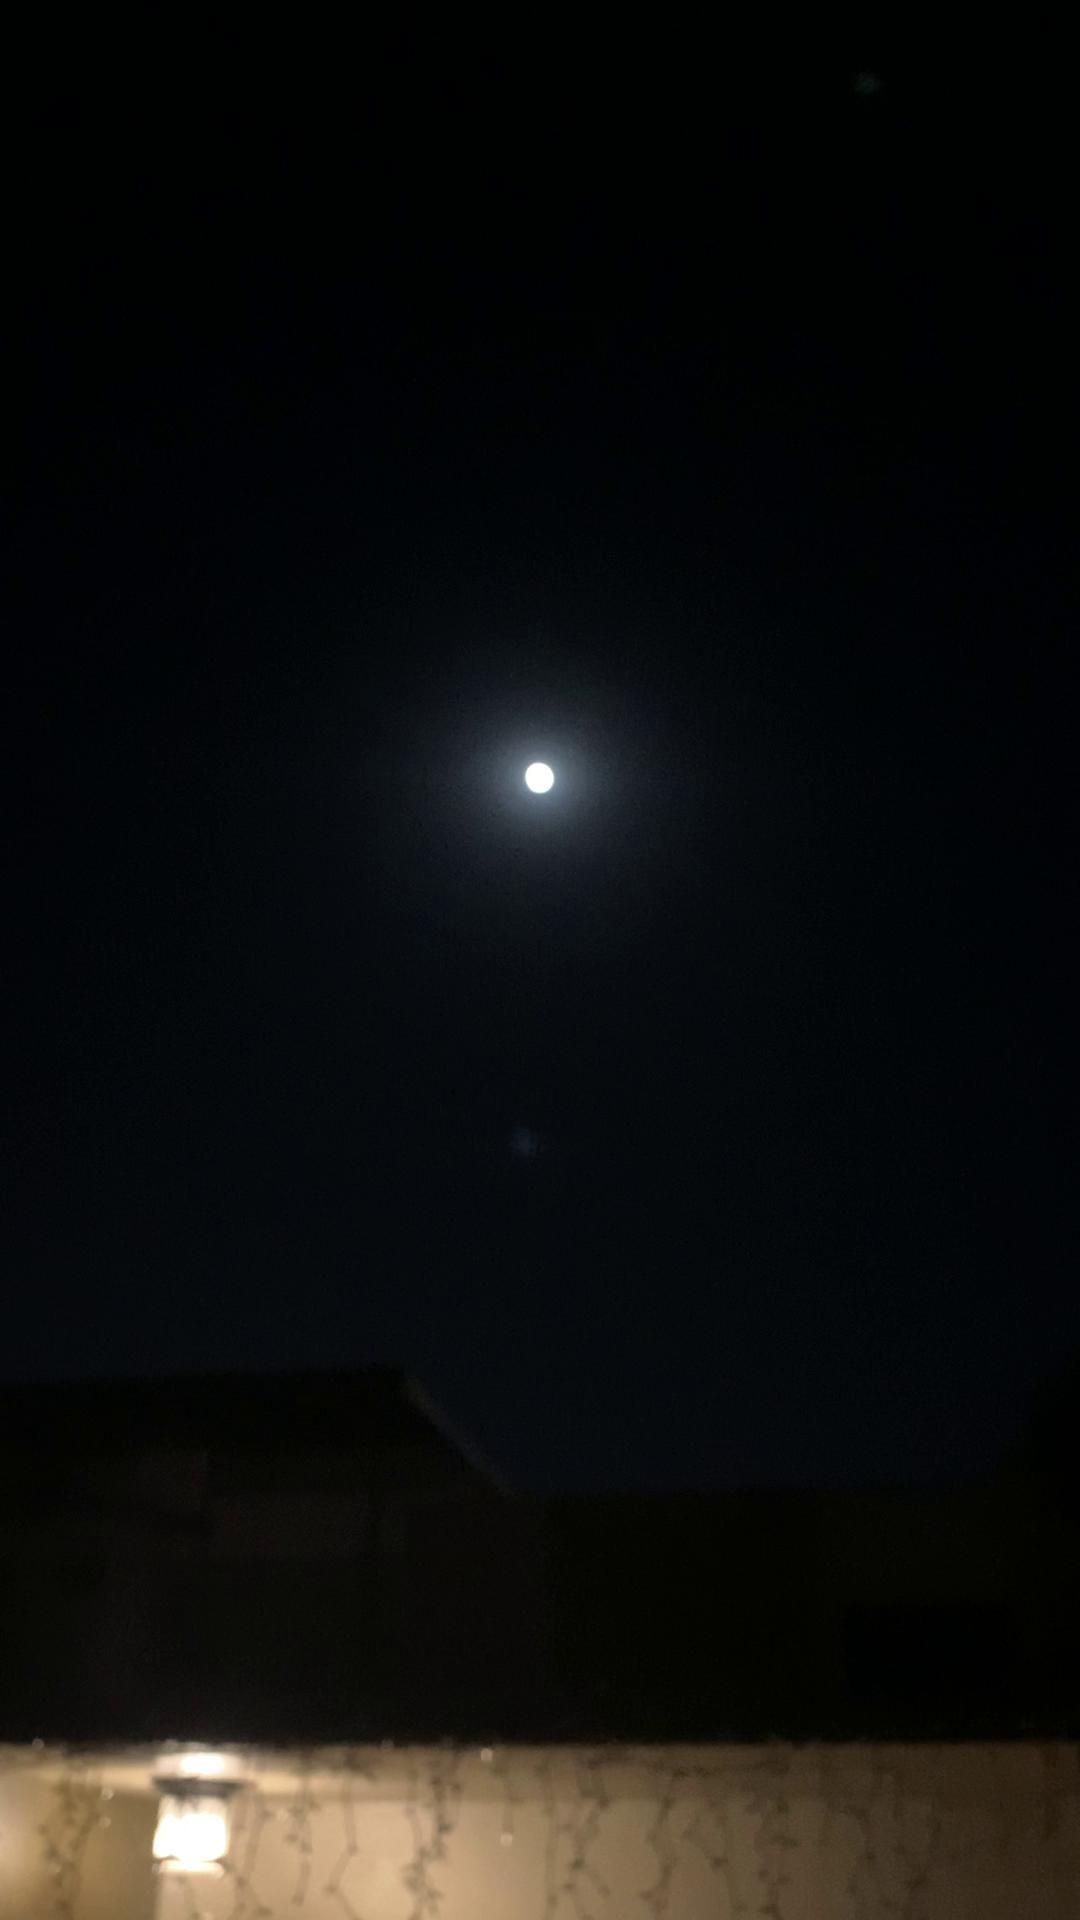moon: (504, 745, 591, 840)
